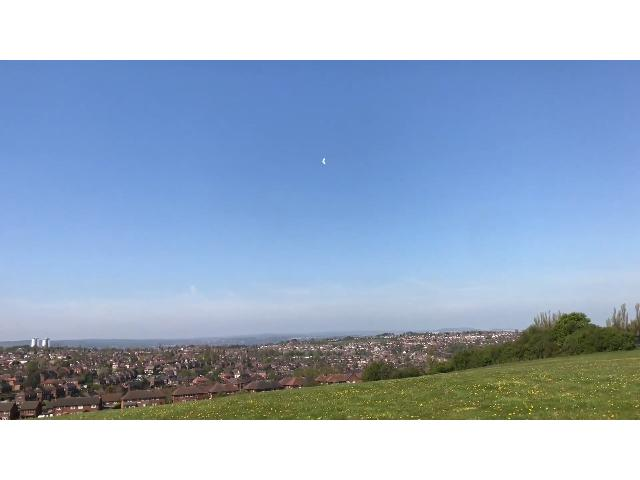Anti-Drone: (316, 146, 342, 170)
